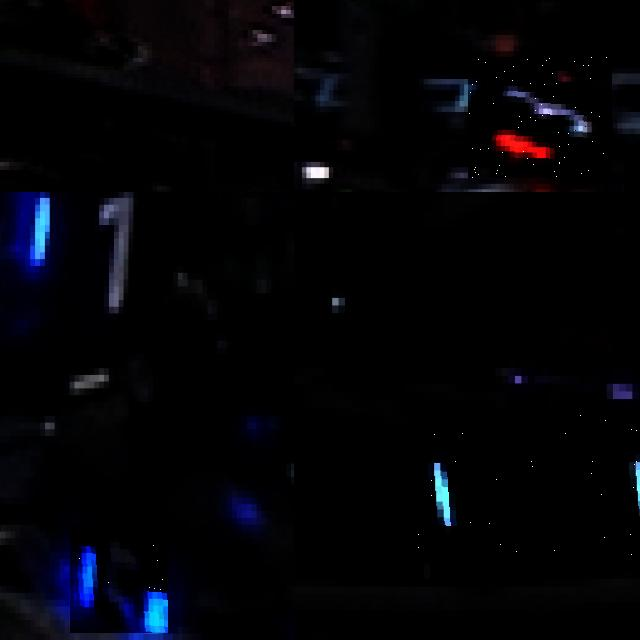B3: (417, 407, 640, 563)
B5: (70, 525, 168, 633)
R3: (468, 57, 612, 178)
